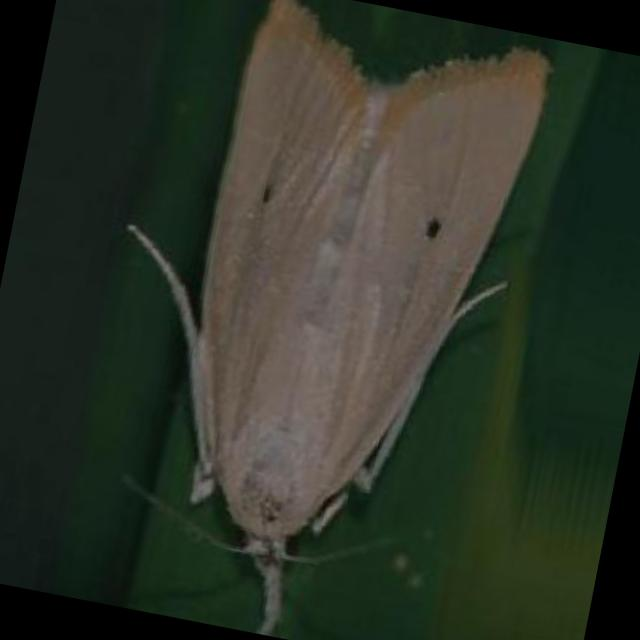stem-borer: (51, 0, 560, 640)
